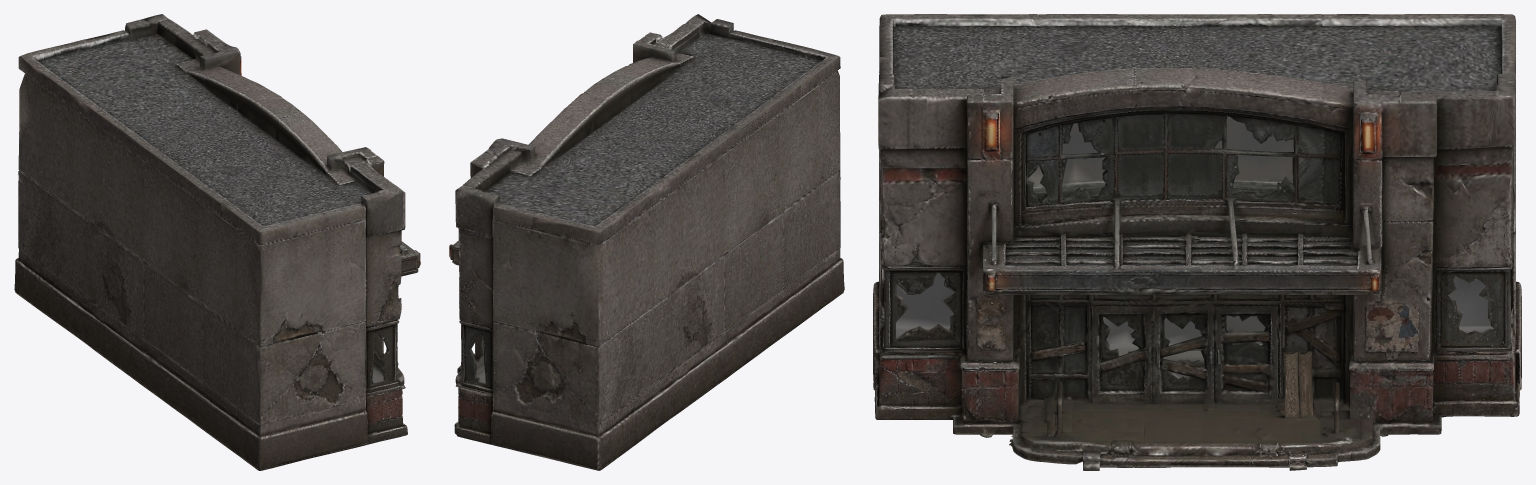
Rendered from tripo_convert_9ef401fc-8fa3-4e26-8af6-36ed65246268.fbx.
3 renders of one model, left to right at view 1: azimuth 30°, elevation 25°; view 2: azimuth 150°, elevation 25°; view 3: azimuth 270°, elevation 25°, orthographic. The views are drawn at different scales.
Visible parts, largest first — view 1: tripo_node_9ef401fc; view 2: tripo_node_9ef401fc; view 3: tripo_node_9ef401fc.
Part boxes in pixels (box(x1,y1,x2,y2)): tripo_node_9ef401fc: box(14, 14, 420, 470); tripo_node_9ef401fc: box(449, 14, 844, 470); tripo_node_9ef401fc: box(873, 14, 1521, 470).
Bounding box in the file's own units: 0.5048 × 0.5667 × 0.9809.
Materials: 1 (1 with a texture image).
